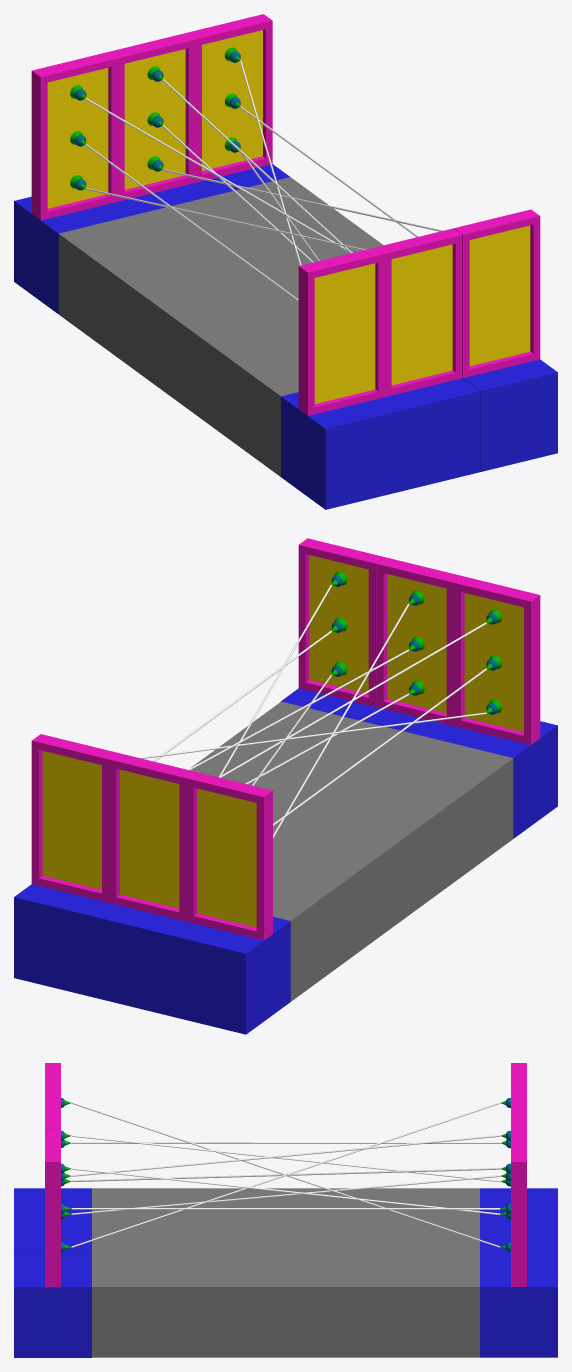
The model's file is DangerLasersFinal.fbx.
3 views of the same model, one above another, from view 1: azimuth 30°, elevation 25°; view 2: azimuth 150°, elevation 25°; view 3: azimuth 270°, elevation 25° (orthographic). The views are drawn at different scales.
Parts seen in each view (by area): view 1: insidewall_lowpoly003, insidewall_lowpoly, insidewall_lowpoly005, insidewall_lowpoly004, Box813, insidewall_lowpoly001, insidewall_lowpoly002, Box815, Box814, Box826, Box827, Box828 (+15 smaller); view 2: insidewall_lowpoly, insidewall_lowpoly003, insidewall_lowpoly002, insidewall_lowpoly001, Box240, insidewall_lowpoly005, insidewall_lowpoly004, Box812, Box811, Box829, Box830, Box828 (+15 smaller); view 3: Box817, Box818, Box819, Box816, Box820, Box812, Box815, Box822, Box823, Box824, insidewall_lowpoly005, insidewall_lowpoly002 (+24 smaller).
Part boxes in pixels (<box>): insidewall_lowpoly003: <box>298,247,384,415</box>; insidewall_lowpoly: <box>31,52,117,220</box>; insidewall_lowpoly005: <box>454,209,540,377</box>; insidewall_lowpoly004: <box>376,228,462,396</box>; Box813: <box>281,392,402,509</box>; insidewall_lowpoly001: <box>109,33,195,201</box>; insidewall_lowpoly002: <box>187,14,272,182</box>; Box815: <box>462,359,557,471</box>; Box814: <box>385,378,480,490</box>; Box826: <box>58,215,180,346</box>; Box827: <box>103,247,224,379</box>; Box828: <box>148,280,269,411</box>; insidewall_lowpoly: <box>186,771,272,940</box>; insidewall_lowpoly003: <box>453,576,540,744</box>; insidewall_lowpoly002: <box>31,734,117,902</box>; insidewall_lowpoly001: <box>109,753,194,921</box>; Box240: <box>168,917,290,1034</box>; insidewall_lowpoly005: <box>298,538,384,706</box>; insidewall_lowpoly004: <box>376,557,462,725</box>; Box812: <box>14,884,108,996</box>; Box811: <box>91,903,185,1015</box>; Box829: <box>348,771,469,903</box>; Box830: <box>392,739,513,870</box>; Box828: <box>303,804,424,936</box>; Box817: <box>324,1254,402,1357</box>; Box818: <box>246,1254,324,1357</box>; Box819: <box>168,1254,246,1357</box>; Box816: <box>402,1254,479,1357</box>; Box820: <box>92,1254,169,1357</box>; Box812: <box>480,1254,557,1357</box>; Box815: <box>14,1254,91,1357</box>; Box822: <box>324,1221,402,1253</box>; Box823: <box>246,1221,324,1253</box>; Box824: <box>168,1221,246,1253</box>; insidewall_lowpoly005: <box>45,1129,60,1287</box>; insidewall_lowpoly002: <box>511,1129,526,1286</box>.
Bounding box in the file's own units: 119 × 110 × 276.
